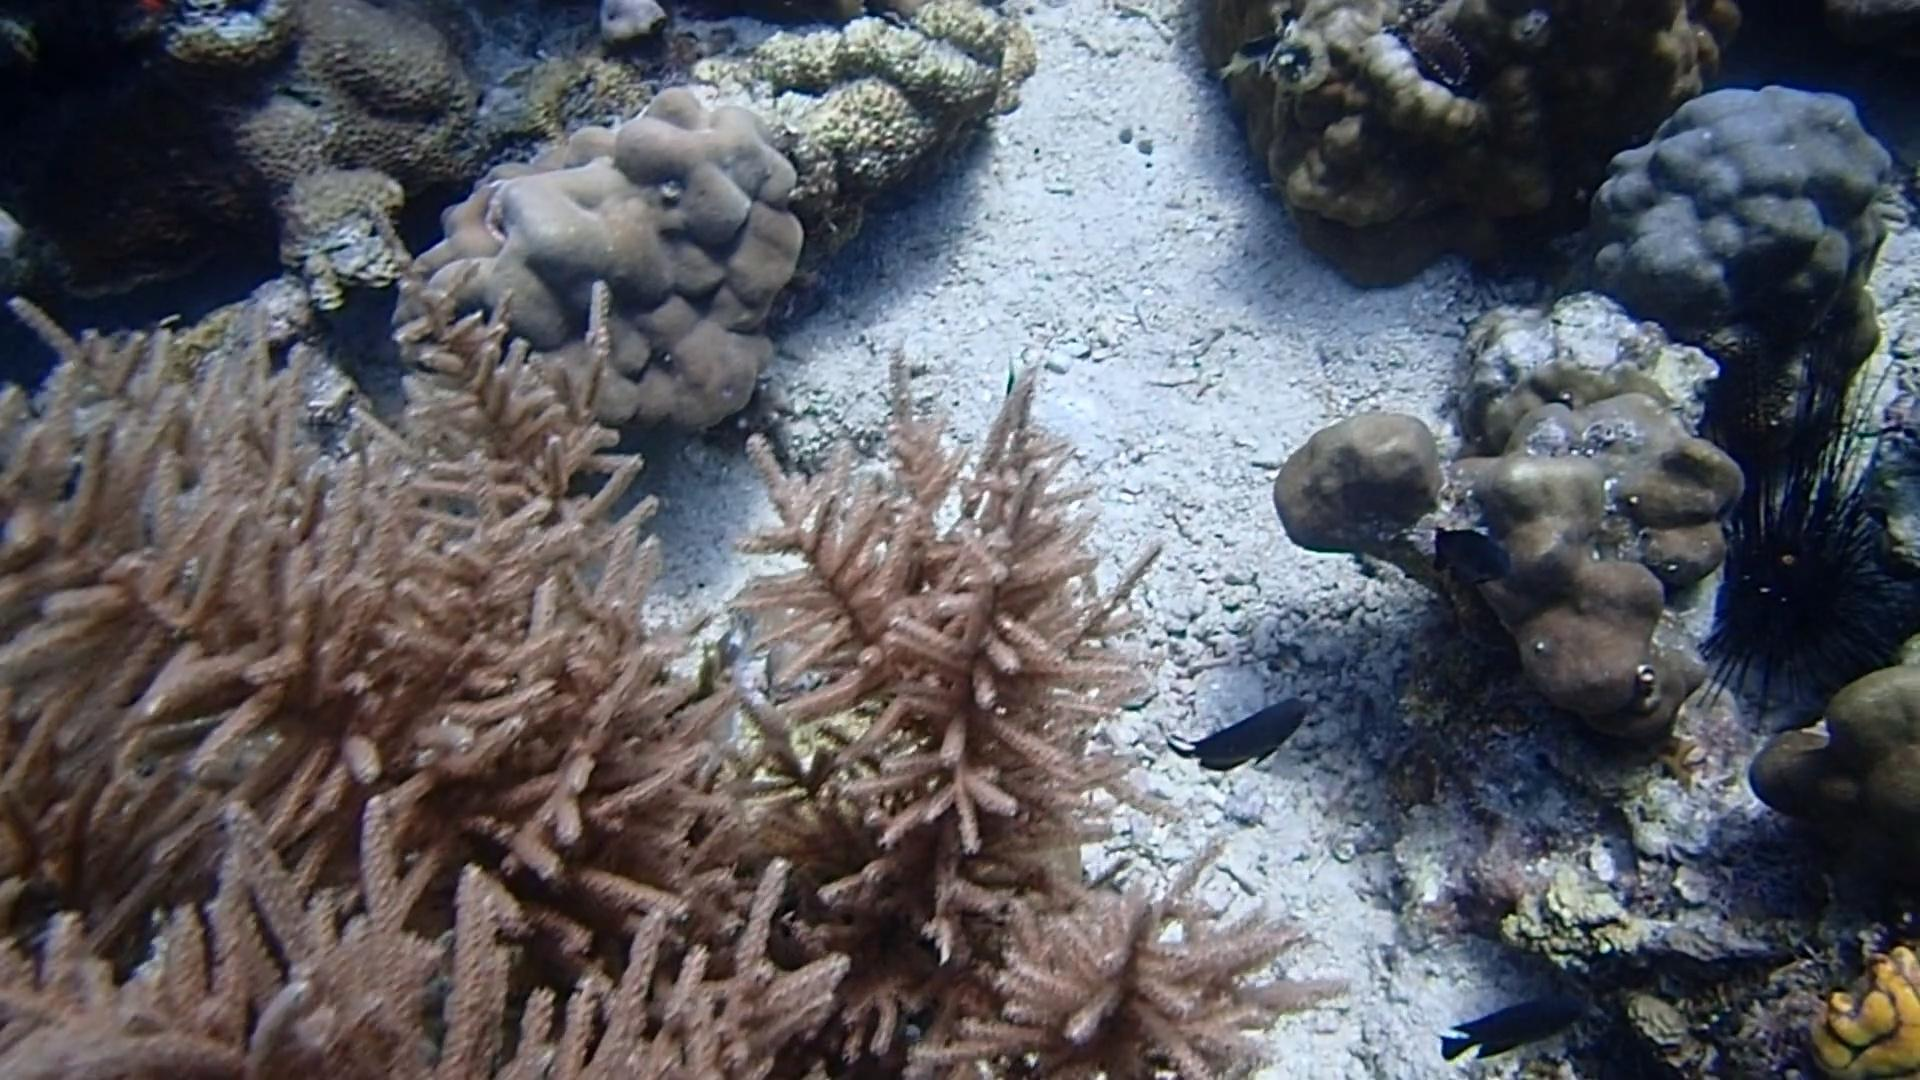Dark Fish: (1153, 698, 1325, 782), (1425, 989, 1592, 1068), (1423, 513, 1513, 599)
